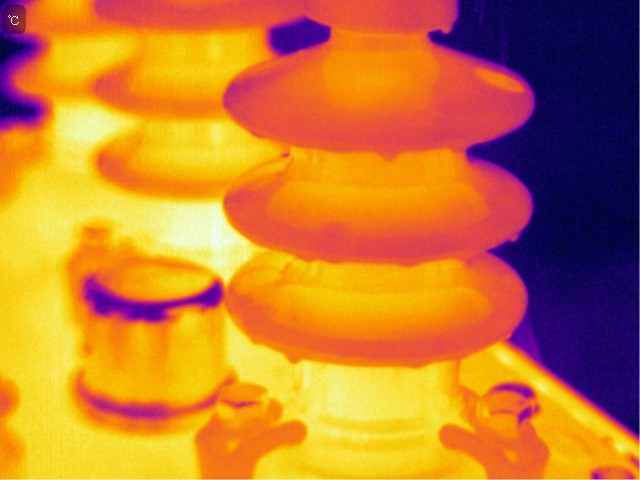Oil: (298, 239, 350, 276), (468, 65, 524, 97), (401, 243, 431, 276), (401, 355, 433, 370), (378, 146, 402, 165), (282, 350, 304, 367), (509, 225, 526, 246), (435, 21, 455, 38)
